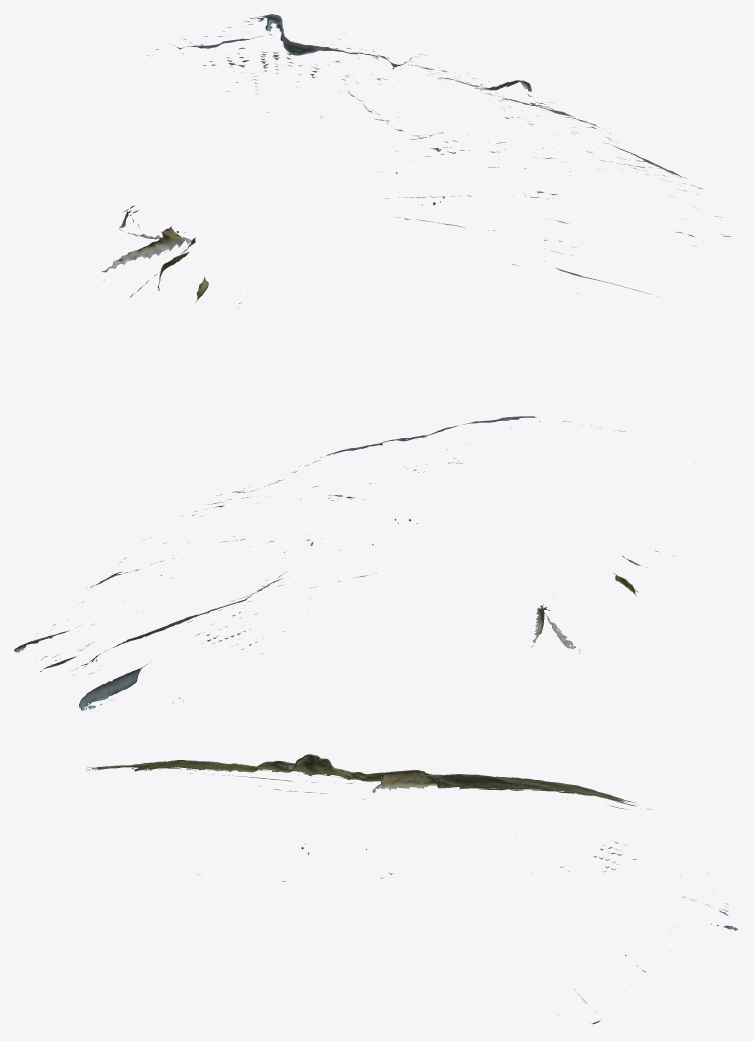
File: left-river-world-collider.glb
3 views of the same model, one above another, from view 1: azimuth 30°, elevation 25°; view 2: azimuth 150°, elevation 25°; view 3: azimuth 270°, elevation 25° (orthographic). The views are drawn at different scales.
Parts seen in each view (by area): view 1: world; view 2: world; view 3: world.
Part boxes in pixels (box(x1,y1,x2,y2)): world: box(101, 14, 731, 307); world: box(14, 416, 694, 710); world: box(86, 754, 738, 1024).
Bounding box in the file's own units: 130 × 21.22 × 174.
